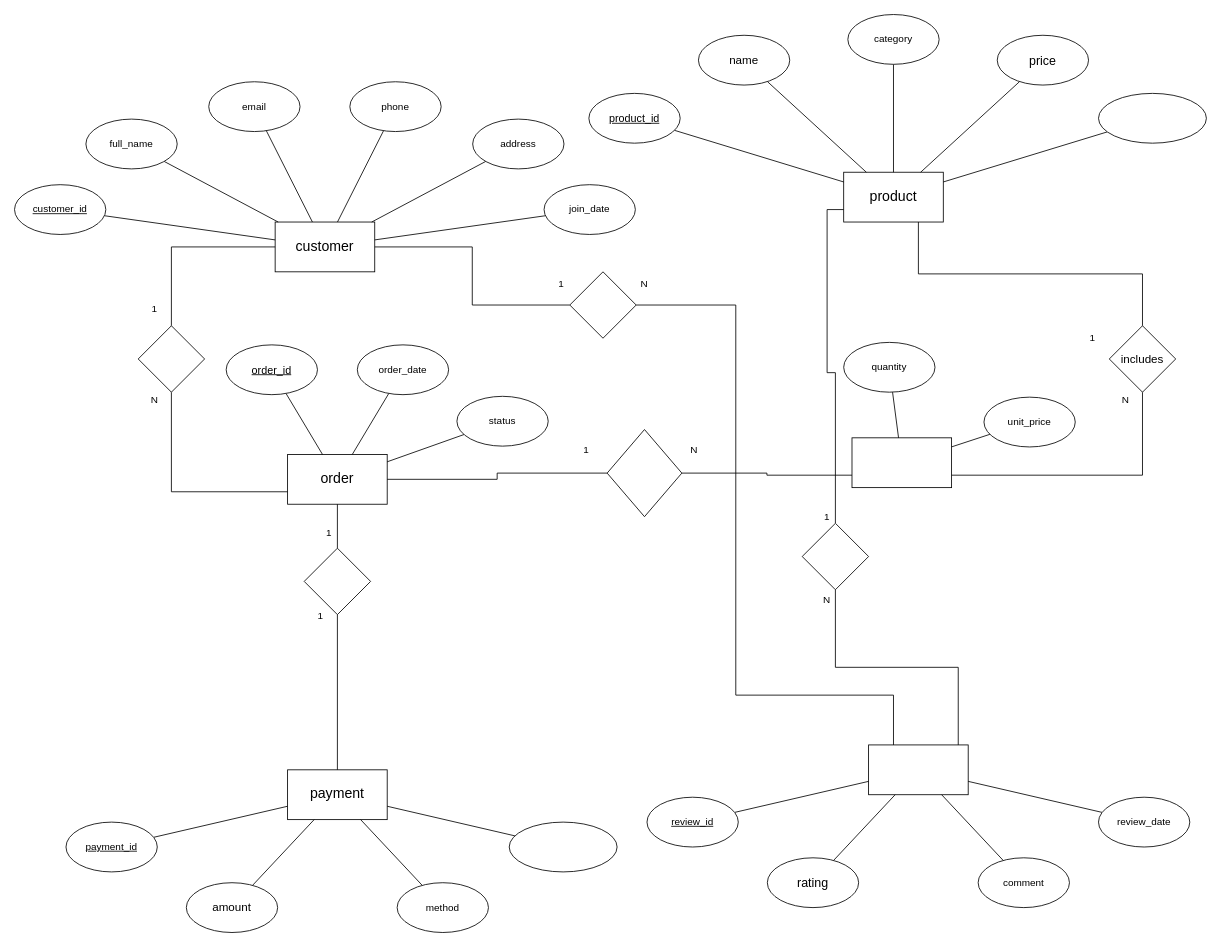
Some shapes in this 1221 by 947 pixel diagram are drawn without their labels. The centre of each missing label's shape, as x and y in pixels:
contains: the point at 644,473
has: the point at 337,581
order details: the point at 901,462
payment_date: the point at 562,846
places: the point at 171,358
Receives: the point at 835,556
review: the point at 918,769
stock_quantity: the point at 1152,118
writes: the point at 602,304
